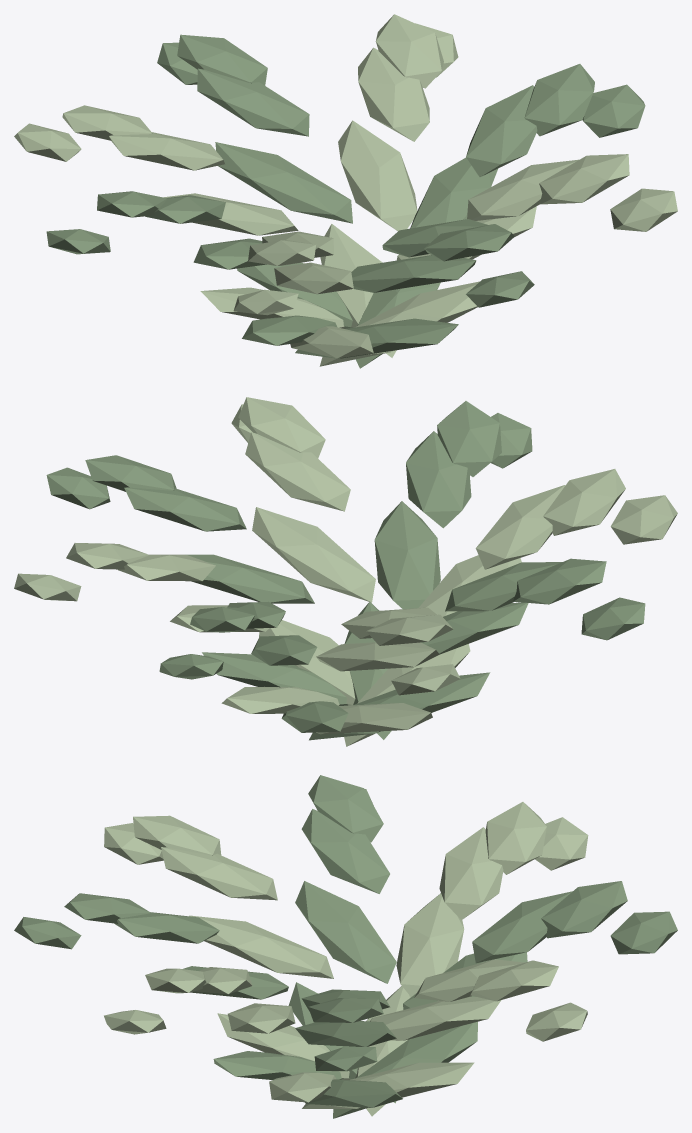
The model's file is fern.glb.
3 views of the same model, one above another, from view 1: azimuth 30°, elevation 25°; view 2: azimuth 150°, elevation 25°; view 3: azimuth 270°, elevation 25° (orthographic). The views are drawn at different scales.
Parts seen in each view (by area): view 1: frond.006, frond.011, frond.007, frond.012, frond.002, frond.003, frond.008, frond.001, frond.031, frond.037, frond.038, frond.017 (+28 smaller); view 2: frond.036, frond.031, frond.037, frond.032, frond.027, frond.028, frond.001, frond.002, frond.033, frond.038, frond, frond.023 (+27 smaller); view 3: frond.021, frond.016, frond.026, frond.022, frond.017, frond.027, frond.012, frond.018, frond.006, frond.013, frond.010, frond.023 (+27 smaller).
Boxes of the visible parts, x1=… form: frond.006: x1=338, y1=120, x2=417, y2=230; frond.011: x1=215, y1=142, x2=352, y2=223; frond.007: x1=358, y1=47, x2=429, y2=141; frond.012: x1=197, y1=68, x2=309, y2=136; frond.002: x1=466, y1=85, x2=537, y2=176; frond.003: x1=524, y1=64, x2=594, y2=136; frond.008: x1=375, y1=14, x2=443, y2=88; frond.001: x1=410, y1=157, x2=498, y2=228; frond.031: x1=351, y1=255, x2=476, y2=292; frond.037: x1=467, y1=159, x2=578, y2=220; frond.038: x1=539, y1=154, x2=629, y2=204; frond.017: x1=109, y1=132, x2=224, y2=170; frond.036: x1=252, y1=507, x2=375, y2=602; frond.031: x1=374, y1=501, x2=440, y2=609; frond.037: x1=245, y1=432, x2=350, y2=511; frond.032: x1=406, y1=431, x2=471, y2=528; frond.027: x1=475, y1=485, x2=565, y2=569; frond.028: x1=543, y1=469, x2=625, y2=535; frond.001: x1=185, y1=554, x2=314, y2=603; frond.002: x1=124, y1=487, x2=246, y2=531; frond.033: x1=437, y1=401, x2=501, y2=476; frond.038: x1=238, y1=397, x2=325, y2=458; frond: x1=202, y1=652, x2=347, y2=705; frond.023: x1=513, y1=558, x2=606, y2=604; frond.021: x1=295, y1=881, x2=396, y2=983; frond.016: x1=396, y1=893, x2=464, y2=996; frond.026: x1=189, y1=915, x2=333, y2=978; frond.022: x1=301, y1=809, x2=389, y2=893; frond.017: x1=439, y1=827, x2=503, y2=920; frond.027: x1=161, y1=847, x2=277, y2=900; frond.012: x1=472, y1=891, x2=572, y2=963; frond.018: x1=485, y1=802, x2=546, y2=874; frond.006: x1=370, y1=996, x2=501, y2=1040; frond.013: x1=541, y1=881, x2=627, y2=938; frond.010: x1=333, y1=1021, x2=477, y2=1118; frond.023: x1=308, y1=775, x2=383, y2=842.
Bounding box in the file's own units: 1.86 × 0.6361 × 1.86.
